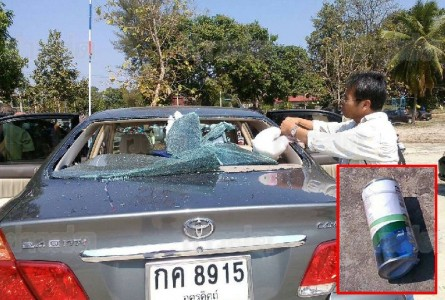Aerosol_cans: (360, 175, 424, 282)
